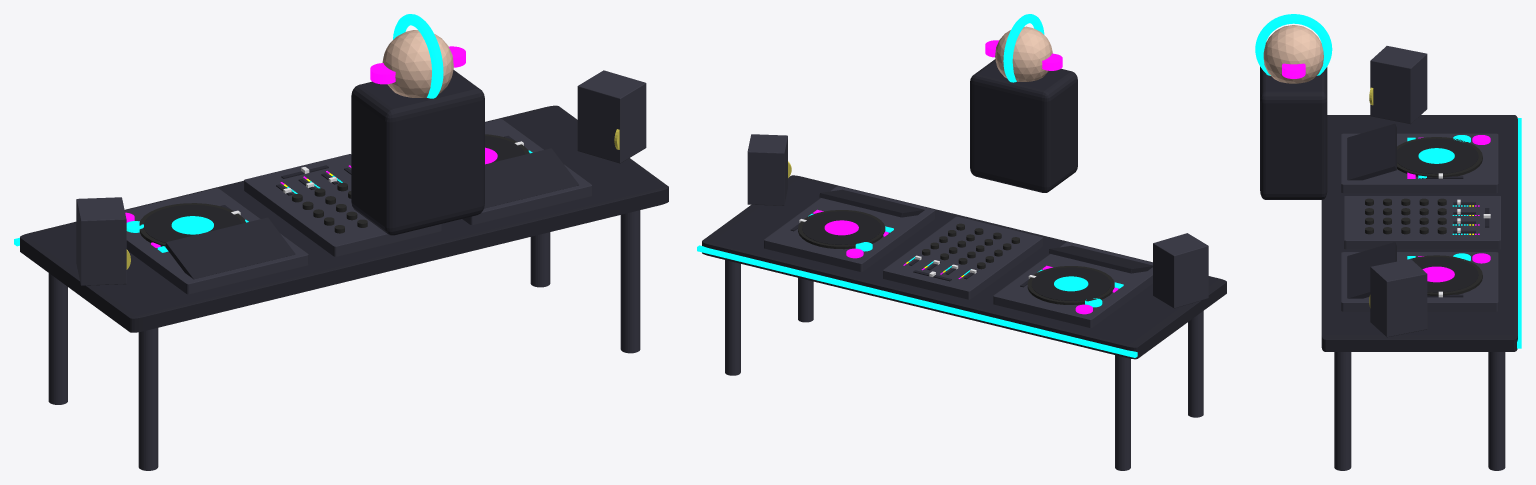
The model's file is dj_booth_equipment.glb.
The picture shows the model from 3 angles, left to right: view 1: azimuth 30°, elevation 25°; view 2: azimuth 150°, elevation 25°; view 3: azimuth 270°, elevation 25°; orthographic projection. The views are drawn at different scales.
Parts seen in each view (by area): view 1: DJ_Booth_Main_Desk, DJ_Avatar_Torso, Pioneer_DJM900NXS2_Chassis, Studio_Monitor_1.8, Pioneer_CDJ3000_Deck_A_Chassis, Pioneer_CDJ3000_Deck_A_Screen_Housing, Studio_Monitor_-1.8, Pioneer_CDJ3000_Deck_B_Screen_Housing, DJ_Avatar_Head, Desk_Leg_1.7_-0.55, Desk_Leg_-1.7_-0.55, Pioneer_CDJ3000_Deck_B_Chassis (+4 smaller); view 2: DJ_Booth_Main_Desk, DJ_Avatar_Torso, Pioneer_DJM900NXS2_Chassis, Pioneer_CDJ3000_Deck_B_Chassis, Pioneer_CDJ3000_Deck_A_Chassis, Studio_Monitor_-1.8, DJ_Booth_Neon_Edge, Studio_Monitor_1.8, DJ_Avatar_Head, Desk_Leg_1.7_0.55, Desk_Leg_-1.7_0.55, Pioneer_CDJ3000_Deck_B_Jog_Vinyl_Platter (+8 smaller); view 3: DJ_Booth_Main_Desk, DJ_Avatar_Torso, Pioneer_DJM900NXS2_Chassis, Pioneer_CDJ3000_Deck_A_Chassis, Studio_Monitor_1.8, Studio_Monitor_-1.8, Pioneer_CDJ3000_Deck_B_Chassis, DJ_Avatar_Head, Pioneer_CDJ3000_Deck_A_Screen_Housing, Desk_Leg_1.7_-0.55, Desk_Leg_1.7_0.55, Pioneer_CDJ3000_Deck_A_Jog_Vinyl_Platter (+9 smaller).
Boxes of the visible parts, x1,y1,x2,y2 form: DJ_Booth_Main_Desk: [20, 105, 668, 332]; DJ_Avatar_Torso: [351, 70, 484, 235]; Pioneer_DJM900NXS2_Chassis: [244, 154, 441, 256]; Studio_Monitor_1.8: [577, 70, 646, 163]; Pioneer_CDJ3000_Deck_A_Chassis: [124, 188, 308, 294]; Pioneer_CDJ3000_Deck_A_Screen_Housing: [165, 217, 295, 279]; Studio_Monitor_-1.8: [76, 197, 126, 285]; Pioneer_CDJ3000_Deck_B_Screen_Housing: [484, 148, 578, 208]; DJ_Avatar_Head: [382, 30, 453, 97]; Desk_Leg_1.7_-0.55: [620, 210, 640, 353]; Desk_Leg_-1.7_-0.55: [138, 328, 158, 470]; Pioneer_CDJ3000_Deck_B_Chassis: [462, 119, 591, 224]; DJ_Booth_Main_Desk: [702, 175, 1226, 359]; DJ_Avatar_Torso: [970, 59, 1077, 192]; Pioneer_DJM900NXS2_Chassis: [883, 216, 1042, 299]; Pioneer_CDJ3000_Deck_B_Chassis: [764, 186, 935, 271]; Pioneer_CDJ3000_Deck_A_Chassis: [993, 242, 1152, 327]; Studio_Monitor_-1.8: [1153, 233, 1208, 308]; DJ_Booth_Neon_Edge: [697, 245, 1137, 357]; Studio_Monitor_1.8: [747, 134, 787, 205]; DJ_Avatar_Head: [995, 26, 1052, 81]; Desk_Leg_1.7_0.55: [725, 260, 740, 375]; Desk_Leg_-1.7_0.55: [1115, 355, 1130, 470]; Pioneer_CDJ3000_Deck_B_Jog_Vinyl_Platter: [802, 211, 881, 244]; DJ_Booth_Main_Desk: [1321, 115, 1517, 351]; DJ_Avatar_Torso: [1260, 66, 1327, 199]; Pioneer_DJM900NXS2_Chassis: [1344, 196, 1500, 249]; Pioneer_CDJ3000_Deck_A_Chassis: [1341, 133, 1498, 193]; Studio_Monitor_1.8: [1370, 259, 1427, 337]; Studio_Monitor_-1.8: [1370, 46, 1427, 124]; Pioneer_CDJ3000_Deck_B_Chassis: [1341, 252, 1498, 311]; DJ_Avatar_Head: [1263, 25, 1323, 83]; Pioneer_CDJ3000_Deck_A_Screen_Housing: [1347, 123, 1396, 180]; Desk_Leg_1.7_-0.55: [1334, 352, 1351, 470]; Desk_Leg_1.7_0.55: [1488, 352, 1505, 470]; Pioneer_CDJ3000_Deck_A_Jog_Vinyl_Platter: [1397, 138, 1478, 174].
Size of the model in its own units: 3.99 by 2.78 by 1.9.
